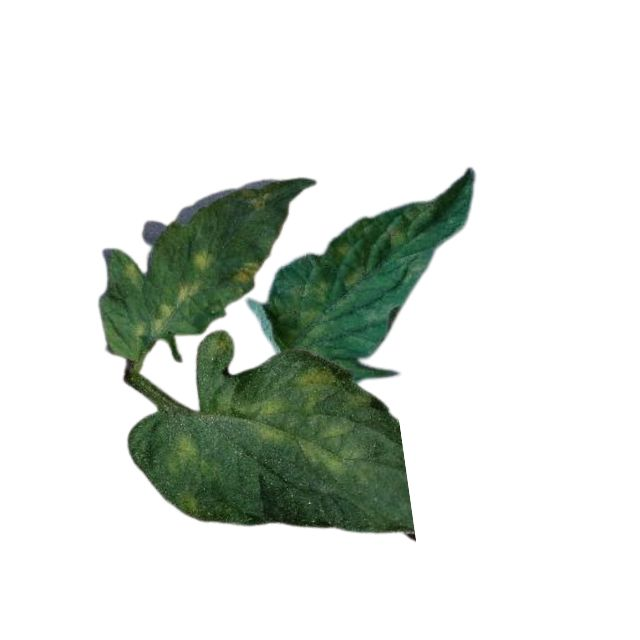Leaf_Mold: (239, 368, 372, 477), (268, 280, 333, 358), (330, 221, 402, 288), (164, 432, 217, 515), (136, 303, 174, 337), (229, 259, 257, 286), (239, 184, 269, 206), (173, 279, 199, 304), (192, 246, 214, 273), (121, 260, 142, 286)
